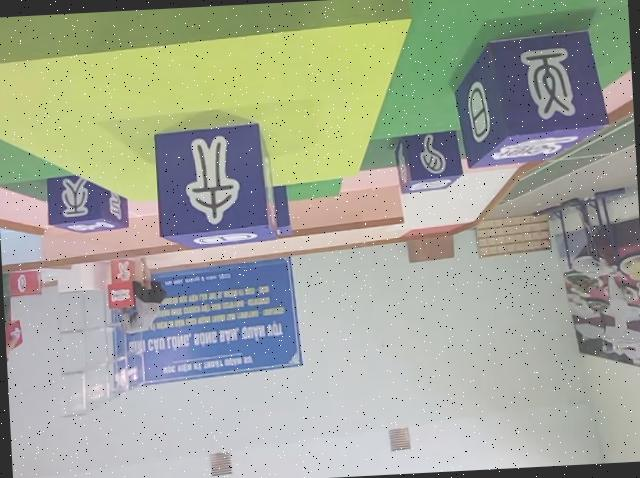R2 Fake Blue: (452, 28, 609, 166), (153, 122, 280, 250), (45, 170, 129, 234), (393, 128, 463, 192)
